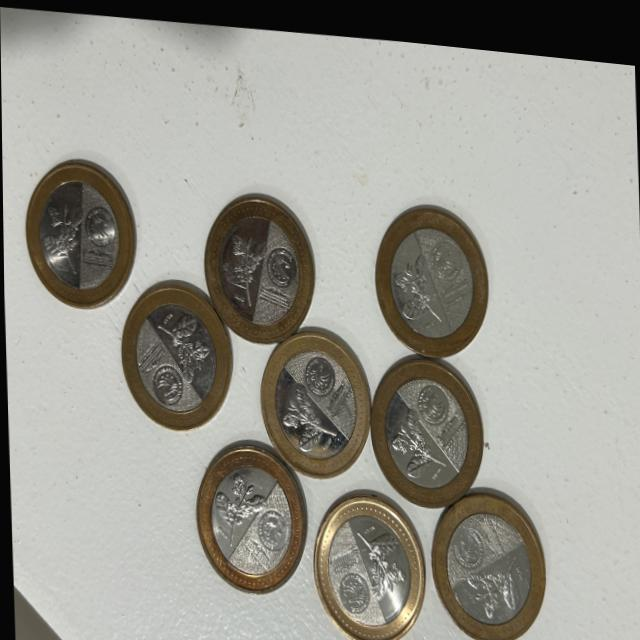20_New_Back: (219, 224, 269, 309), (150, 309, 214, 375), (281, 378, 338, 449), (390, 400, 443, 473), (216, 468, 267, 543), (40, 189, 86, 271), (357, 519, 405, 593), (393, 242, 439, 315), (469, 545, 519, 609)
